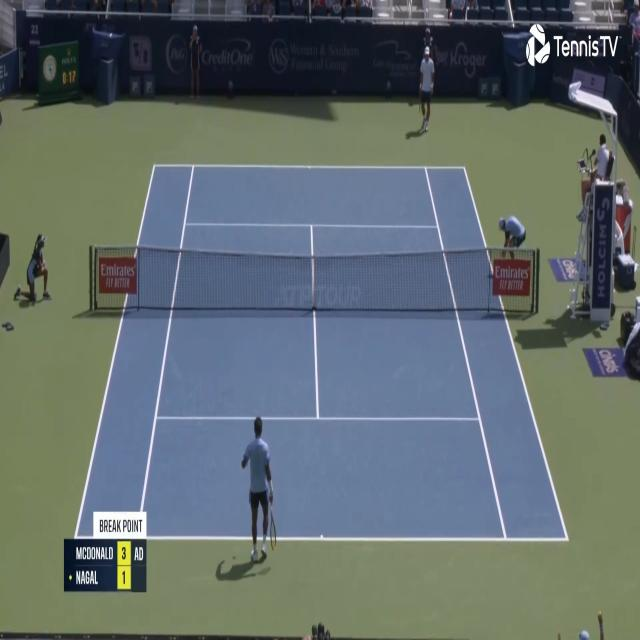tennis-player: (241, 413, 277, 567), (417, 44, 436, 136)
